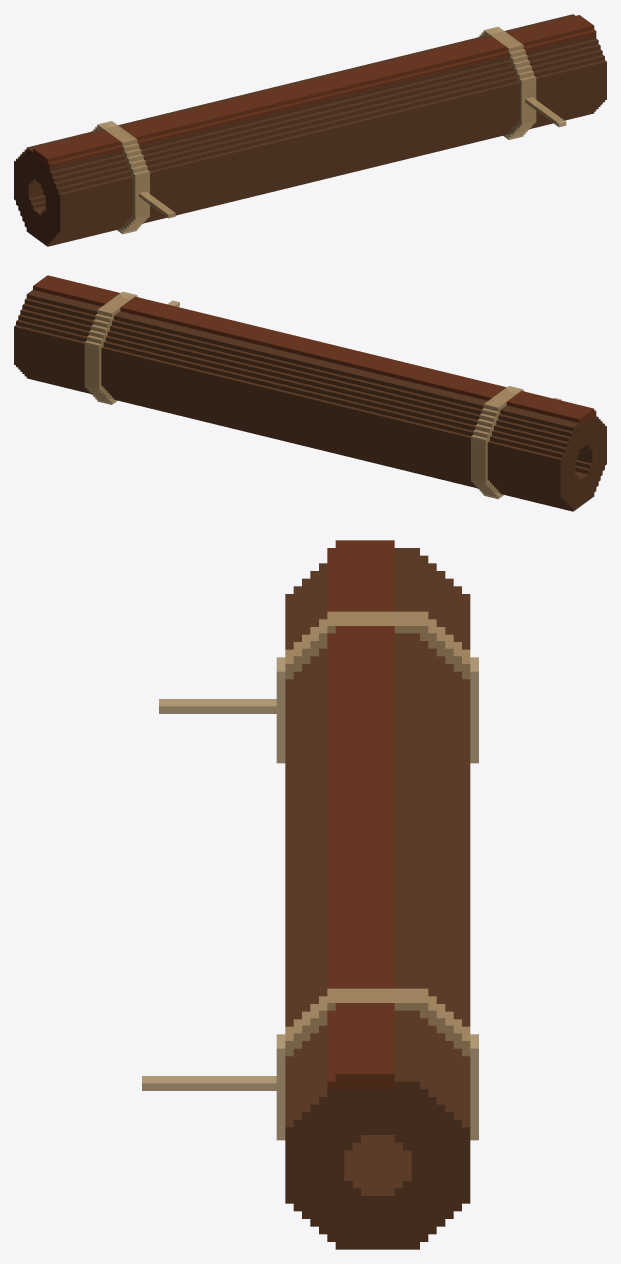
File: sheet_leather.glb
3 views of the same model, one above another, from view 1: azimuth 30°, elevation 25°; view 2: azimuth 150°, elevation 25°; view 3: azimuth 270°, elevation 25° (orthographic). The views are drawn at different scales.
Visible parts, largest first — view 1: sheet_leather:compound; view 2: sheet_leather:compound; view 3: sheet_leather:compound.
Part boxes in pixels (x1,y1,x2,y2): sheet_leather:compound: (14, 14, 606, 246); sheet_leather:compound: (14, 275, 606, 511); sheet_leather:compound: (142, 540, 478, 1249).
Size of the model in its own units: 0.3 by 0.048 by 0.08.
